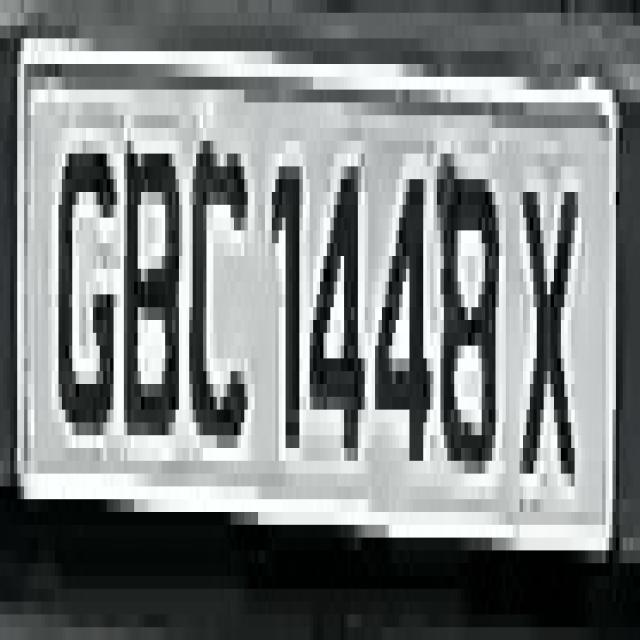1: (268, 102, 306, 448)
4: (362, 128, 441, 525), (296, 128, 375, 499)
8: (427, 115, 502, 499)
B: (117, 128, 186, 461)
C: (190, 102, 244, 474)
G: (45, 102, 120, 448)
X: (502, 140, 578, 538)
